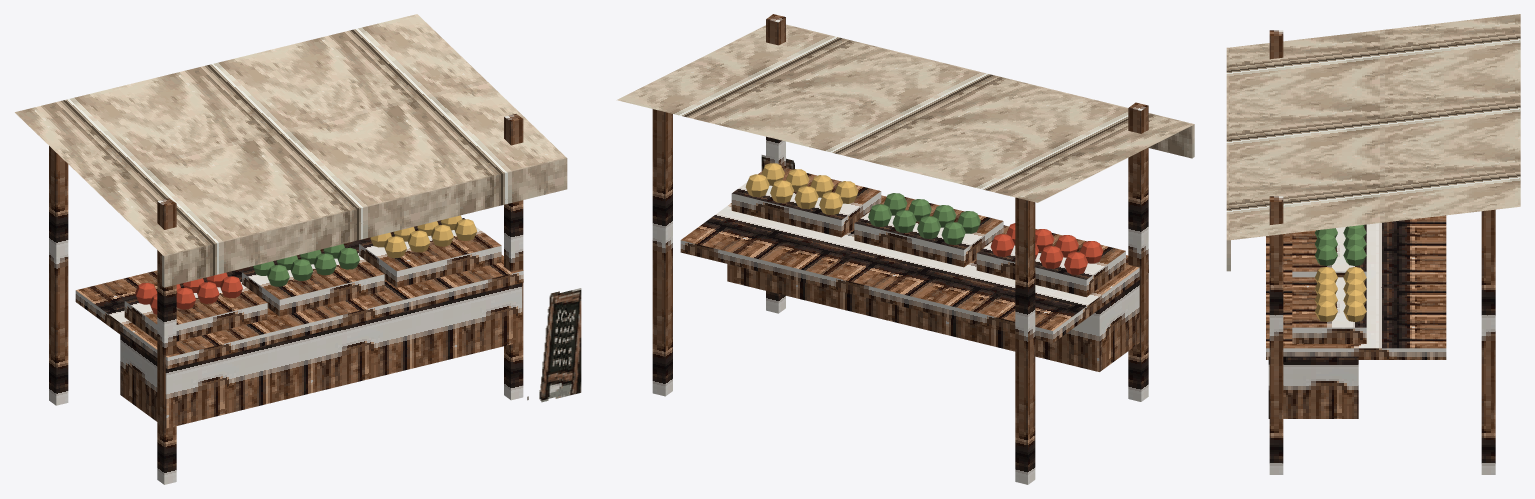
The model's file is market.glb.
The picture shows the model from 3 angles, left to right: view 1: azimuth 30°, elevation 25°; view 2: azimuth 150°, elevation 25°; view 3: azimuth 270°, elevation 25°; orthographic projection. The views are drawn at different scales.
Visible parts, largest first — view 1: market_p9_canvas, market_p9_wood, market_p9_sign_menu, market_p9_gold, market_p9_leaf, market_p9_red; view 2: market_p9_wood, market_p9_canvas, market_p9_gold, market_p9_leaf, market_p9_red; view 3: market_p9_canvas, market_p9_wood, market_p9_gold, market_p9_leaf.
Boxes of the visible parts, bbox=[...] form: market_p9_canvas: bbox=[15, 14, 567, 287]; market_p9_wood: bbox=[49, 114, 523, 484]; market_p9_sign_menu: bbox=[527, 288, 581, 402]; market_p9_gold: bbox=[370, 215, 476, 258]; market_p9_leaf: bbox=[253, 244, 359, 286]; market_p9_red: bbox=[135, 272, 242, 314]; market_p9_wood: bbox=[652, 14, 1148, 484]; market_p9_canvas: bbox=[616, 24, 1194, 202]; market_p9_gold: bbox=[745, 163, 858, 214]; market_p9_leaf: bbox=[868, 193, 980, 244]; market_p9_red: bbox=[990, 223, 1103, 274]; market_p9_canvas: bbox=[1226, 14, 1520, 271]; market_p9_wood: bbox=[1266, 30, 1495, 474]; market_p9_gold: bbox=[1314, 267, 1366, 321]; market_p9_leaf: bbox=[1314, 224, 1366, 265].
Bounding box in the file's own units: 4.5 × 2.9 × 2.8.
6 materials, 3 textured.
